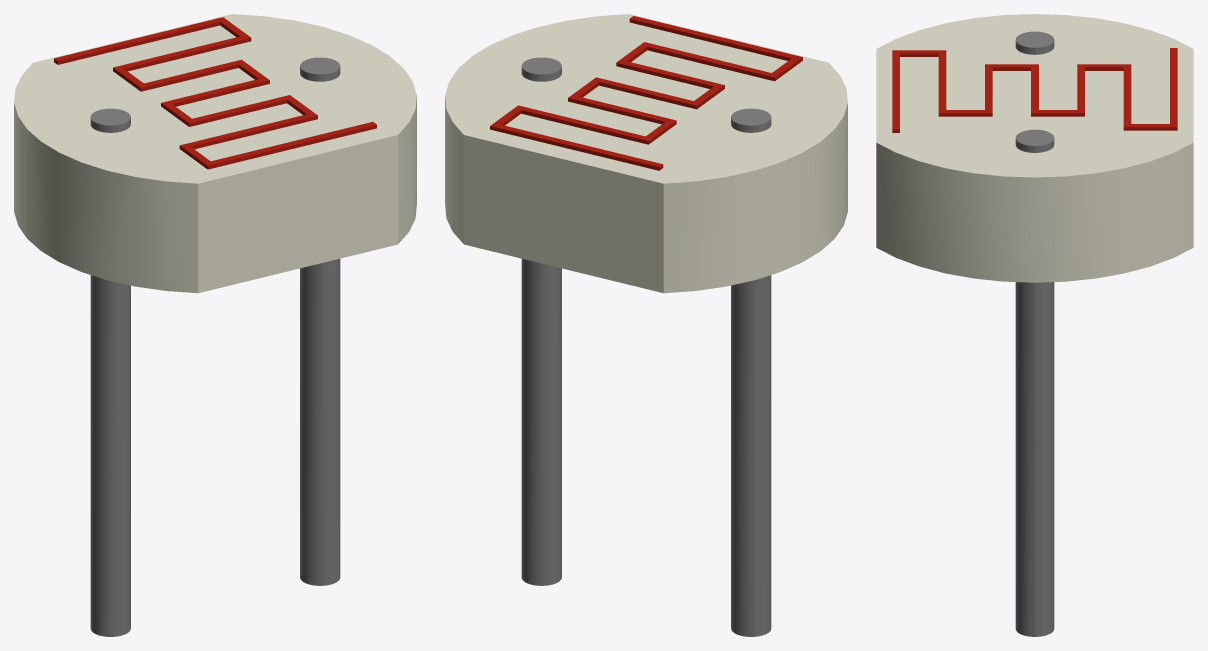
File: kc-r_ldr_5.0x4.1mm_p3mm_vertical.glb
3 renders of one model, left to right at view 1: azimuth 30°, elevation 25°; view 2: azimuth 150°, elevation 25°; view 3: azimuth 270°, elevation 25°, orthographic. The views are drawn at different scales.
Visible parts, largest first — view 1: 0.75_0.75_0.6666666666666666_0, 0.25_0.25_0.25_0, 0.4166666666666667_0_0_0; view 2: 0.75_0.75_0.6666666666666666_0, 0.25_0.25_0.25_0, 0.4166666666666667_0_0_0; view 3: 0.75_0.75_0.6666666666666666_0, 0.25_0.25_0.25_0, 0.4166666666666667_0_0_0.
Boxes of the visible parts, left/top/right/bottom form: 0.75_0.75_0.6666666666666666_0: left=14, top=14, right=416, bottom=293; 0.25_0.25_0.25_0: left=90, top=57, right=340, bottom=636; 0.4166666666666667_0_0_0: left=54, top=17, right=376, bottom=169; 0.75_0.75_0.6666666666666666_0: left=445, top=14, right=847, bottom=293; 0.25_0.25_0.25_0: left=521, top=57, right=771, bottom=636; 0.4166666666666667_0_0_0: left=490, top=16, right=802, bottom=170; 0.75_0.75_0.6666666666666666_0: left=876, top=14, right=1193, bottom=282; 0.25_0.25_0.25_0: left=1015, top=31, right=1054, bottom=636; 0.4166666666666667_0_0_0: left=892, top=48, right=1177, bottom=132.
Size of the model in its own units: 0.5 by 0.7 by 0.41.
